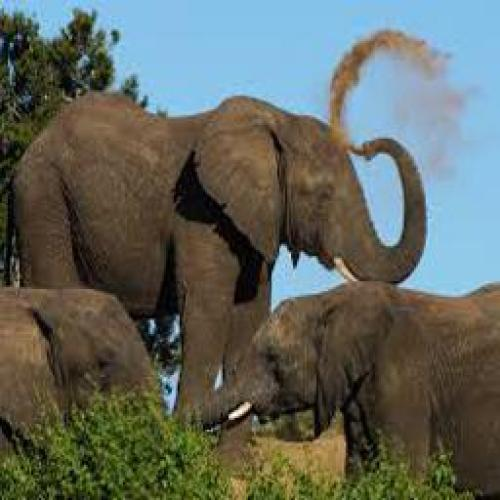african_elephant-endangered: (16, 96, 425, 460), (153, 282, 500, 500), (0, 282, 173, 500)
